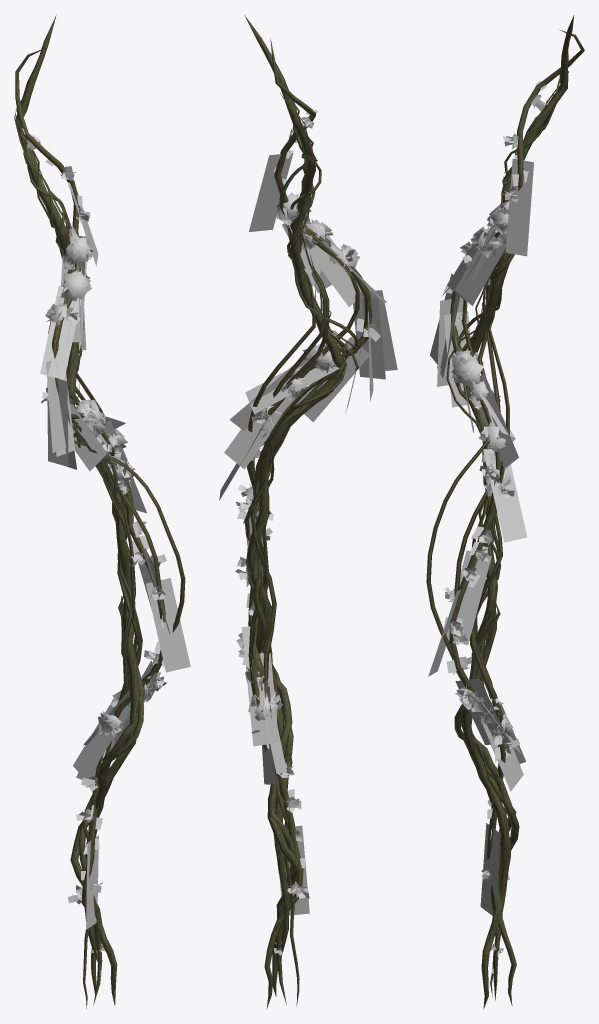
File: Liana3_L0.fbx
The picture shows the model from 3 angles, left to right: view 1: azimuth 30°, elevation 25°; view 2: azimuth 150°, elevation 25°; view 3: azimuth 270°, elevation 25°; orthographic projection. The views are drawn at different scales.
Parts seen in each view (by area): view 1: polySurface46; view 2: polySurface46; view 3: polySurface46.
Boxes of the visible parts, left/top/right/bottom form: polySurface46: left=14, top=15, right=190, bottom=1008; polySurface46: left=219, top=14, right=397, bottom=1009; polySurface46: left=426, top=15, right=584, bottom=1009.
Size of the model in its own units: 217 by 1433 by 208.
